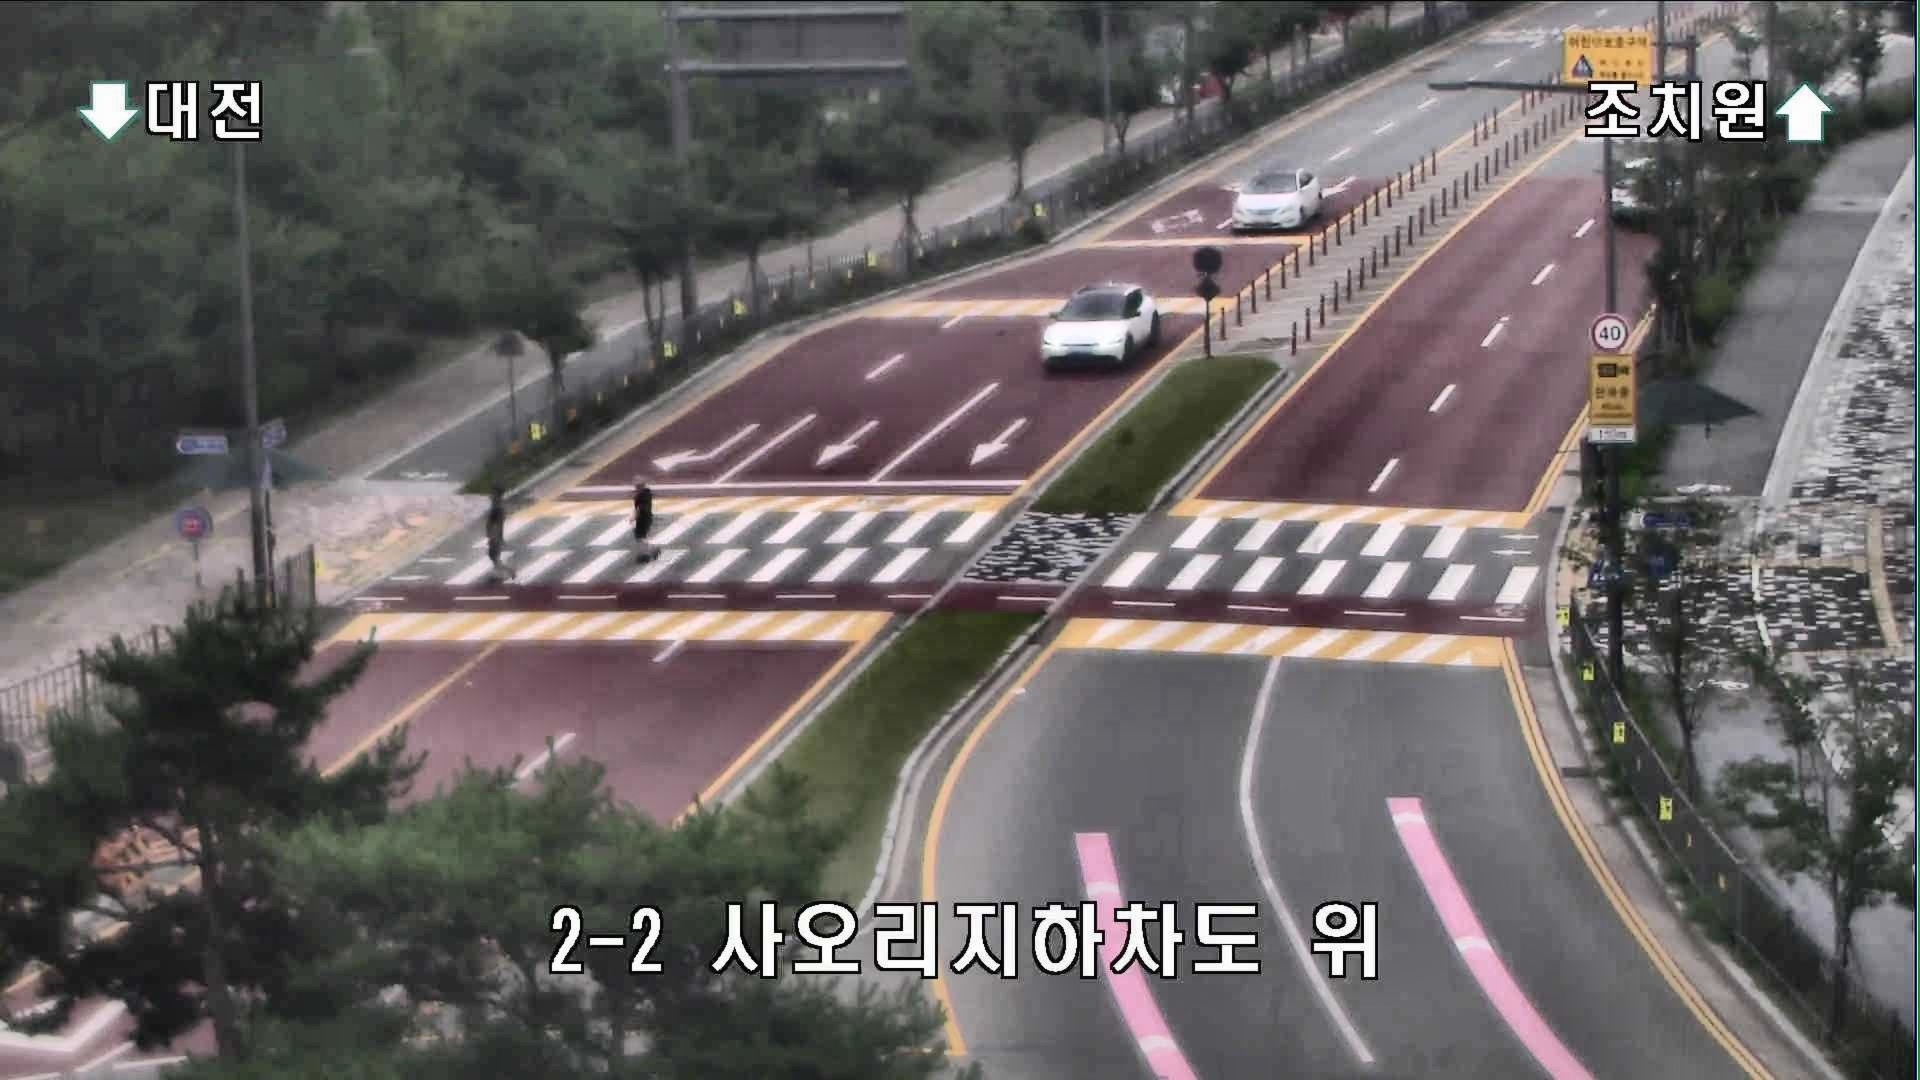crosswalk: (481, 484, 520, 589), (621, 473, 661, 564)
